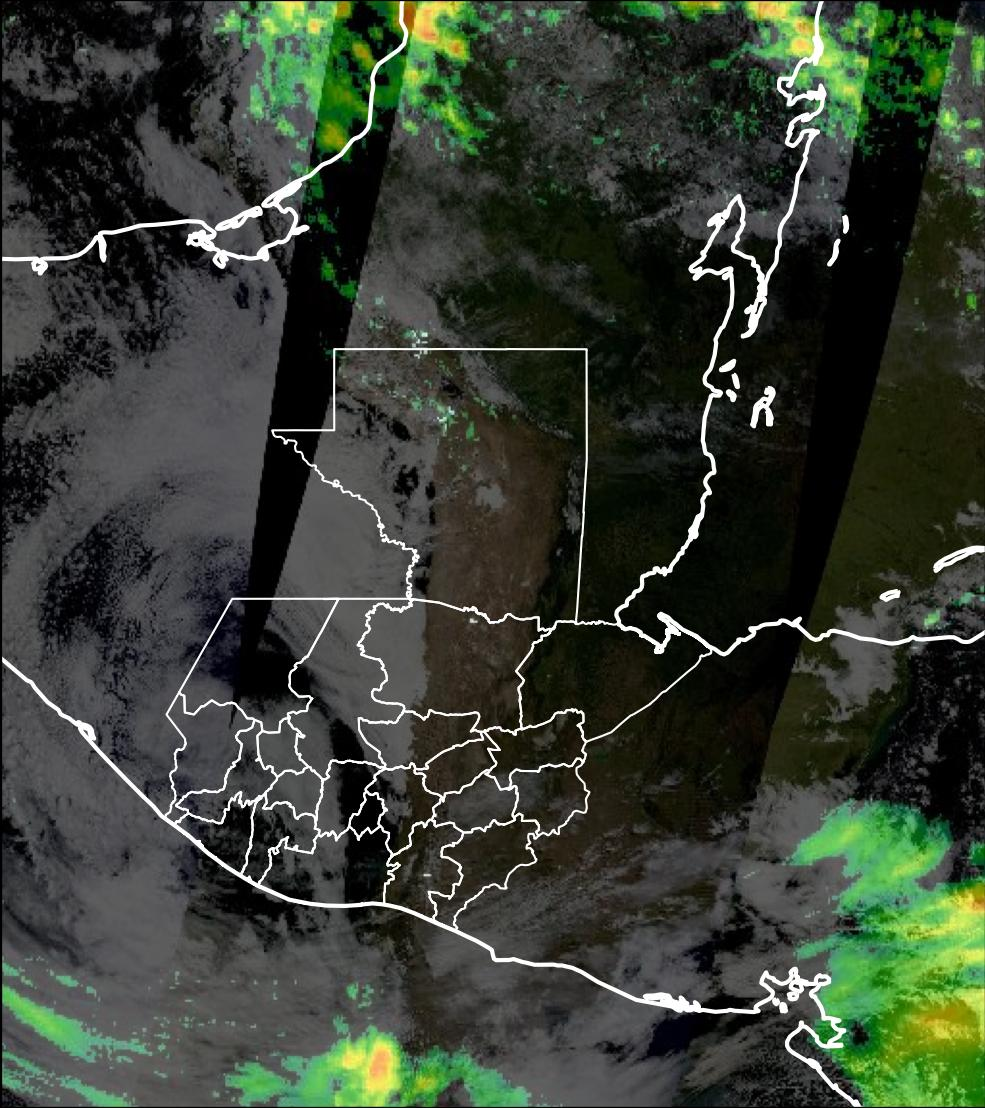precipitacion: (394, 1, 468, 67), (337, 1029, 405, 1099)
